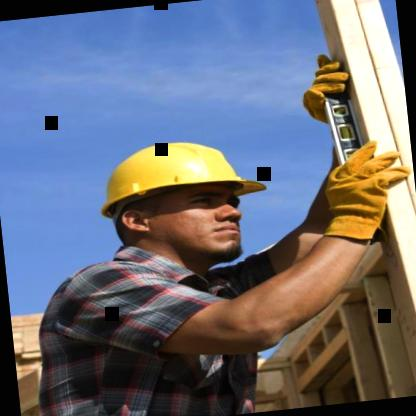helmet: (75, 112, 280, 282)
